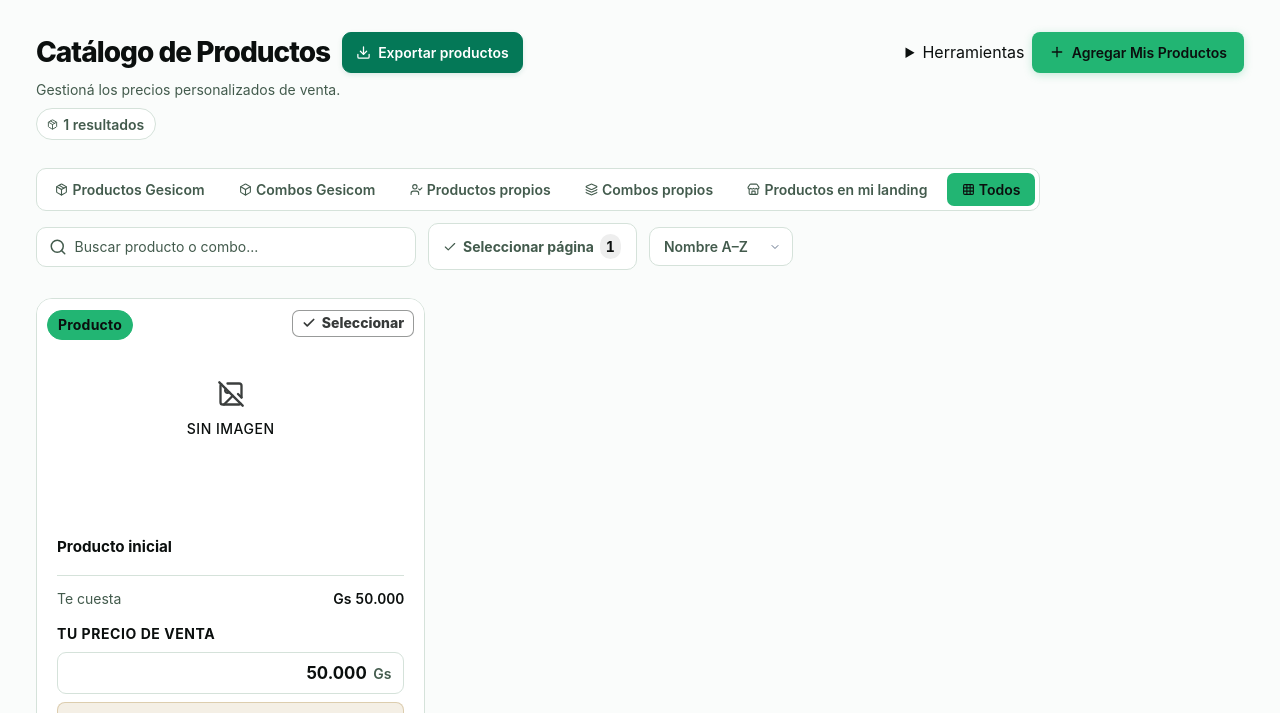
Scenario: VitrinaGrid Component › despublica masivamente desde Productos en mi landing y refresca el listado
Expected: the heading "Producto inicial" is shown, [57, 537, 172, 556]
Click the button "Productos en mi landing".
click(838, 190)  # box [733, 173, 942, 206]
(page scrolled)
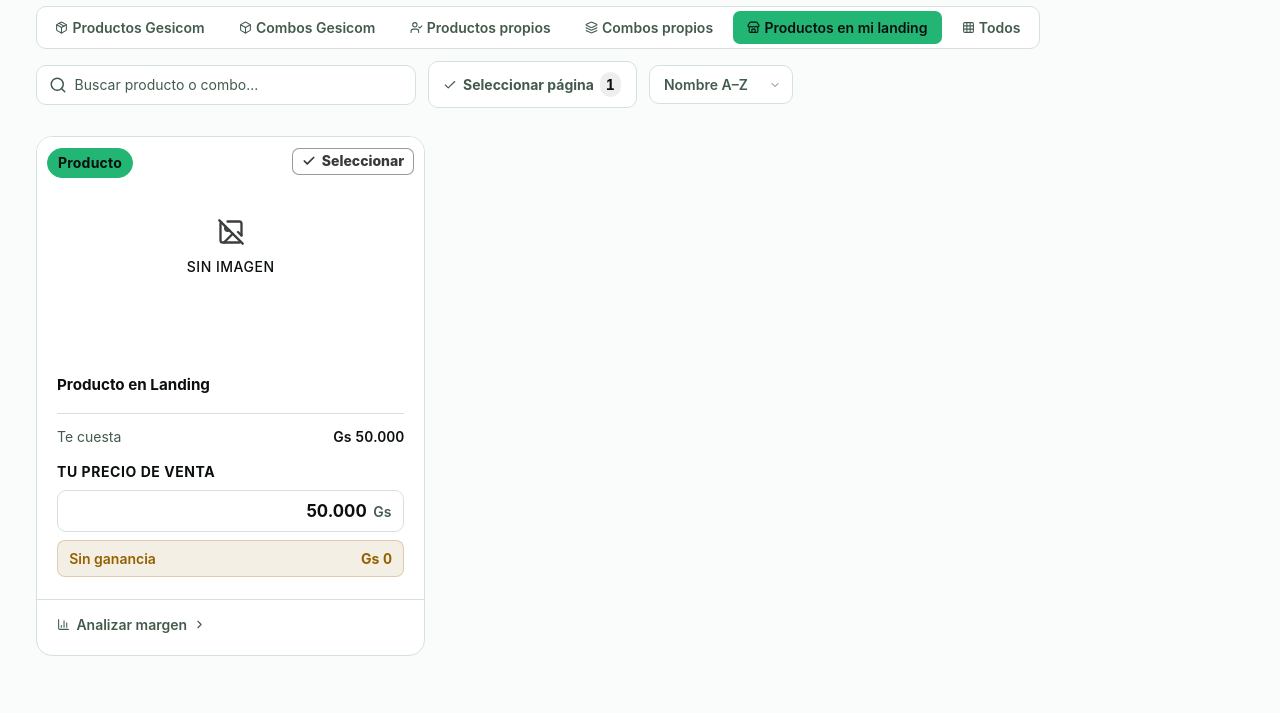
Expected: the heading "Producto en Landing" is shown, [57, 375, 210, 394]
Click the checkbox labelled "Seleccionar Producto en Landing".
click(231, 396)  # box [36, 136, 425, 656]
(page scrolled)
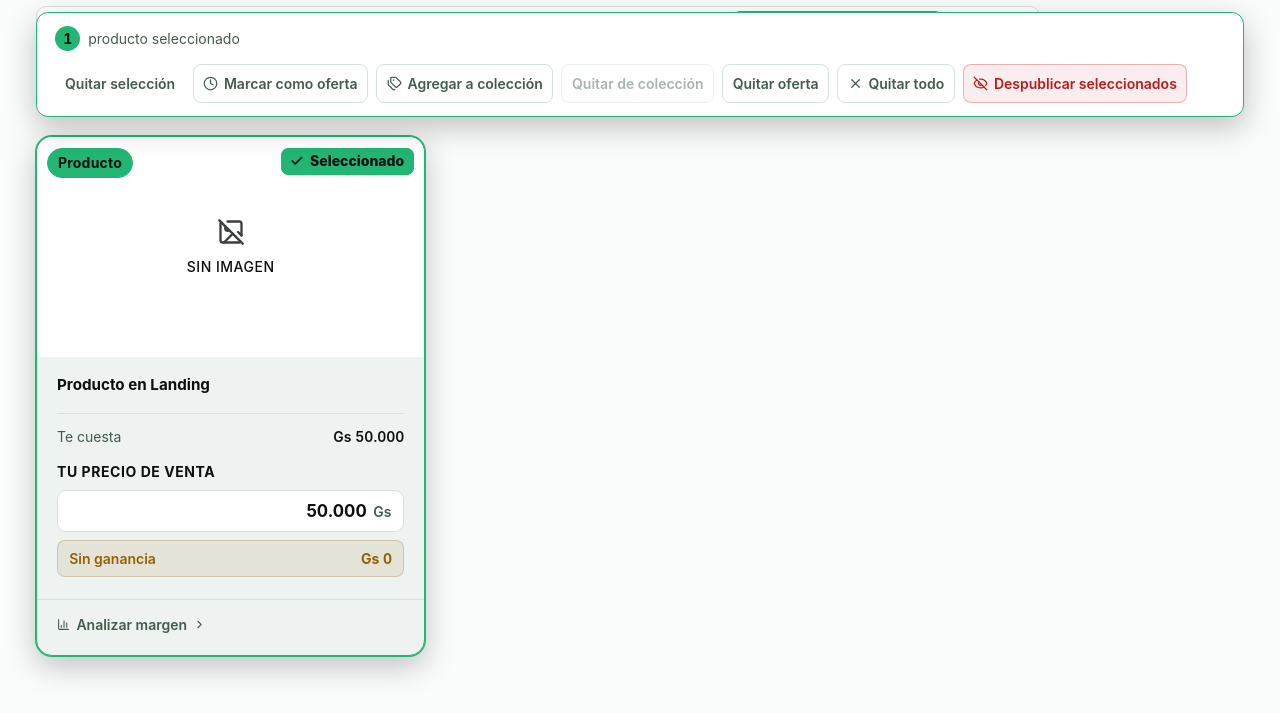
Expected: the element named "Productos seleccionados" is shown, [36, 12, 1244, 117]
Click the button "Despublicar seleccionados".
click(1075, 84)  # box [963, 64, 1187, 103]
(page scrolled)
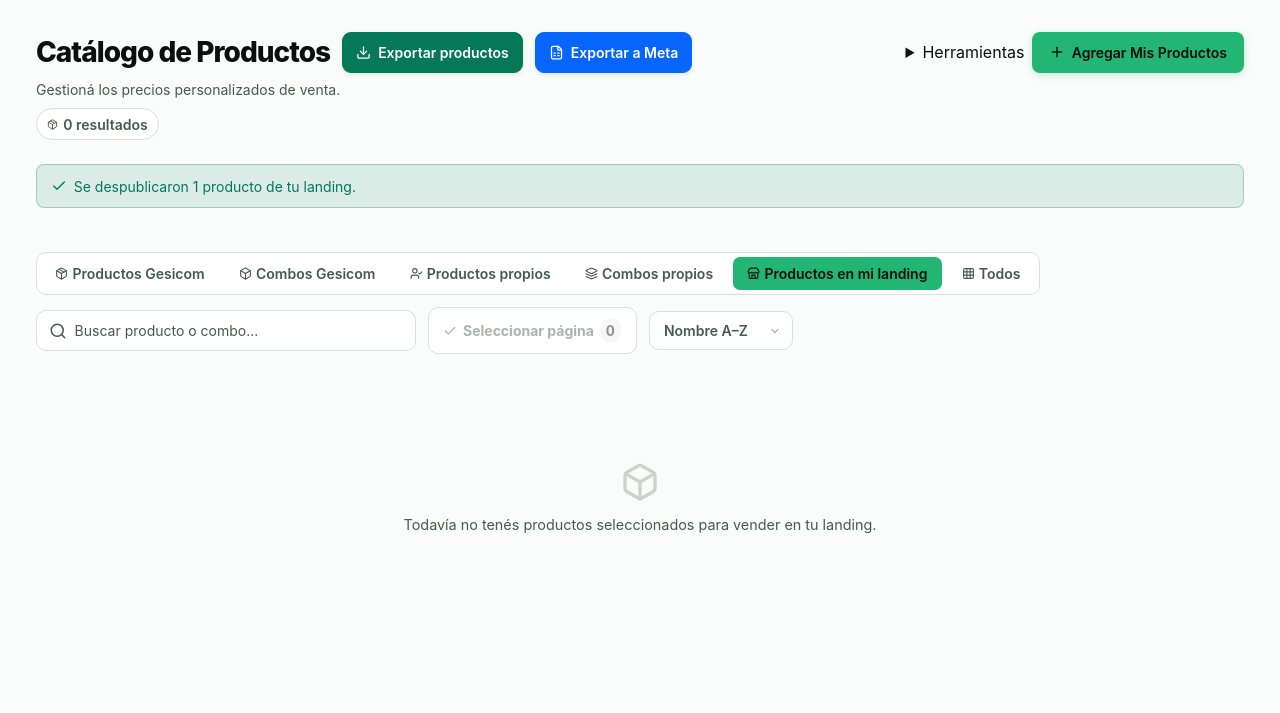
Expected: the text "Todavía no tenés productos seleccionados para vender en tu landing." is shown, [404, 514, 876, 536]
